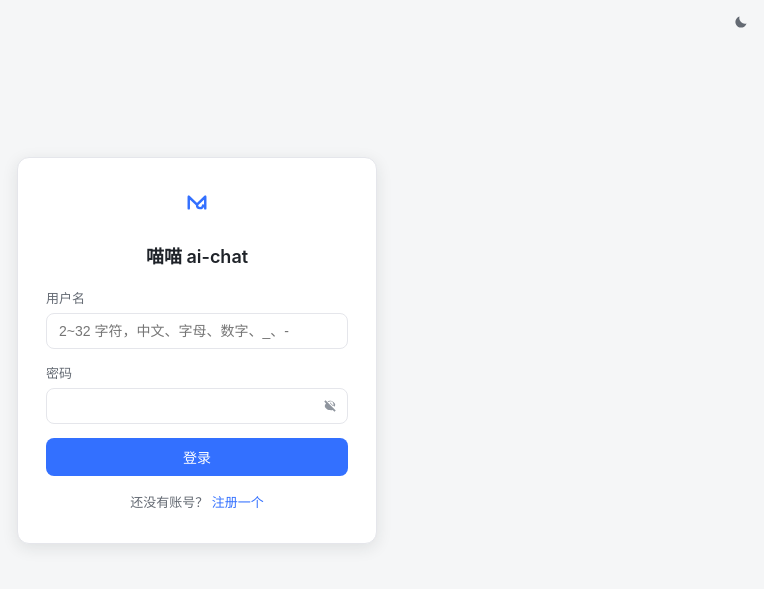
Test case: 登录模式 › 密码错误：统一「用户名或密码错误」红色提示（danger）
This screenshot has width=764, height=589.
In the field labelled "用户名": (197, 330) [46,312,348,348], type "alice"
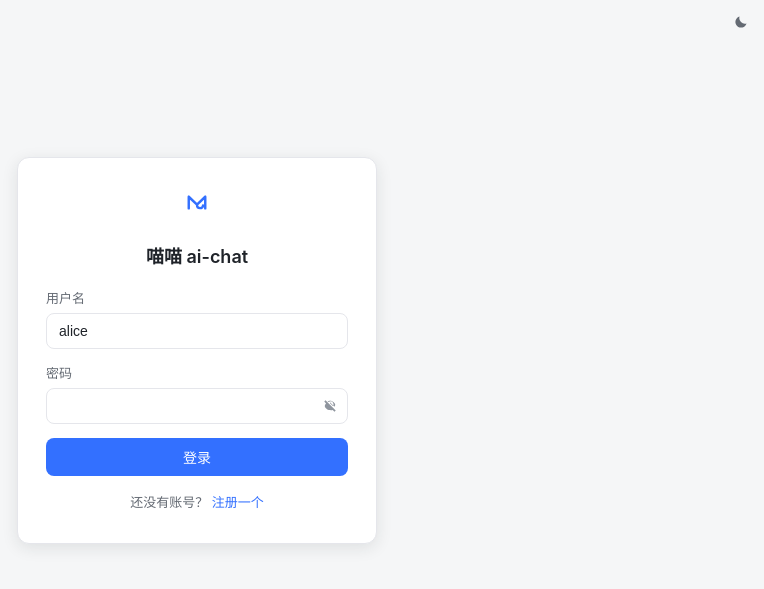
In the password field labelled "密码": (197, 406) [46,388,348,424], type "wrong-password"
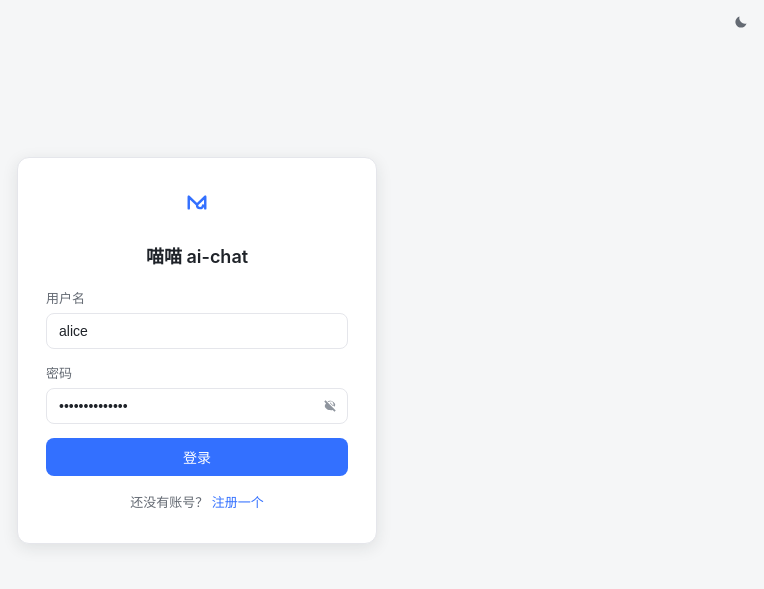
Submit the form, box [46,288,348,476]
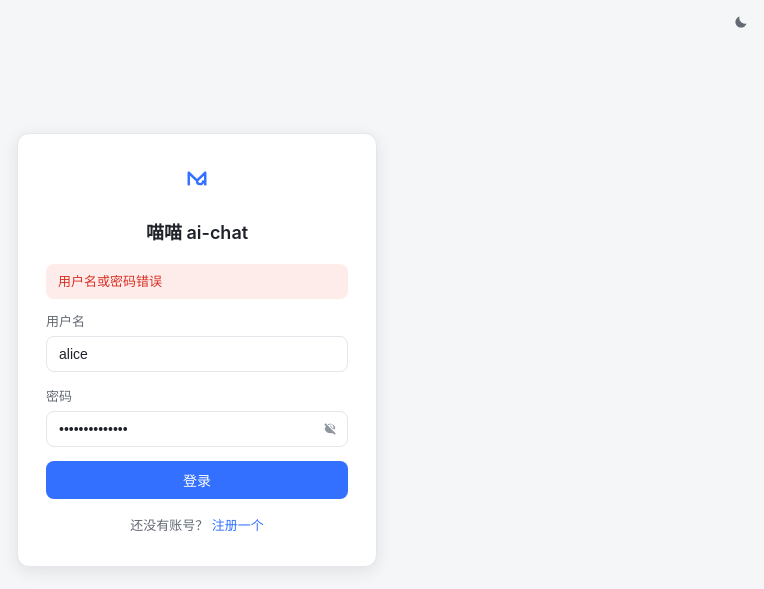
Now the message with class "form-banner" reads "用户名或密码错误", box [58,273,162,289]
